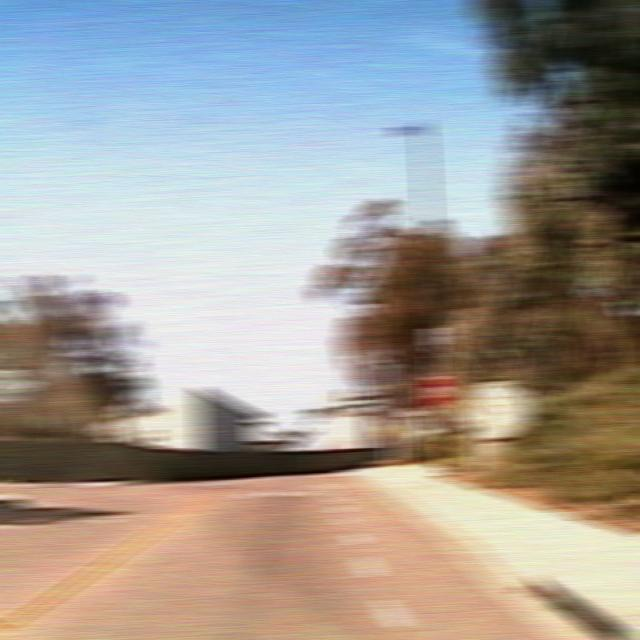stop_sign: (420, 375, 453, 408)
